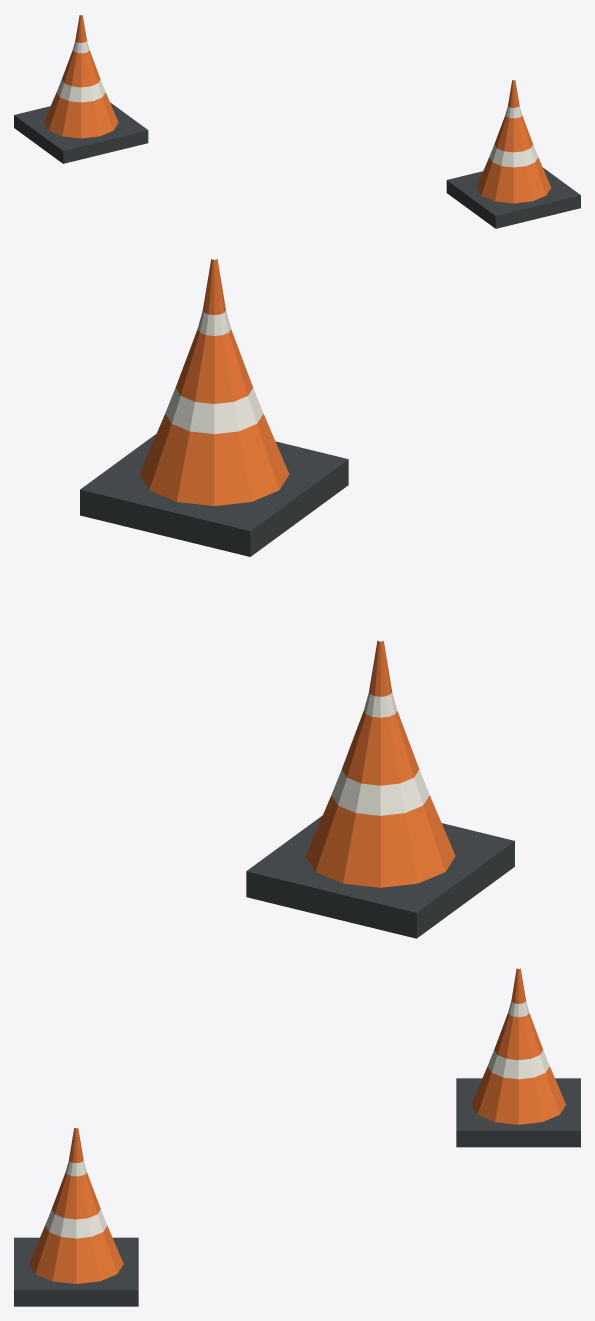
Rendered from track-cones.glb.
3 views of the same model, one above another, from view 1: azimuth 30°, elevation 25°; view 2: azimuth 150°, elevation 25°; view 3: azimuth 270°, elevation 25° (orthographic). The views are drawn at different scales.
Parts seen in each view (by area): view 1: track-cones-orange, track-cones-rubber, track-cones-white; view 2: track-cones-orange, track-cones-rubber, track-cones-white; view 3: track-cones-orange, track-cones-rubber, track-cones-white.
Part boxes in pixels (x1,y1,x2,y2): track-cones-orange: (43, 15, 551, 203); track-cones-rubber: (14, 102, 580, 228); track-cones-white: (56, 41, 538, 167); track-cones-orange: (139, 259, 455, 887); track-cones-rubber: (80, 434, 514, 938); track-cones-white: (165, 310, 429, 815); track-cones-orange: (29, 968, 565, 1283); track-cones-rubber: (14, 1078, 580, 1306); track-cones-white: (45, 1001, 549, 1238).
Size of the model in its own units: 3.06 by 1.03 by 3.46.
